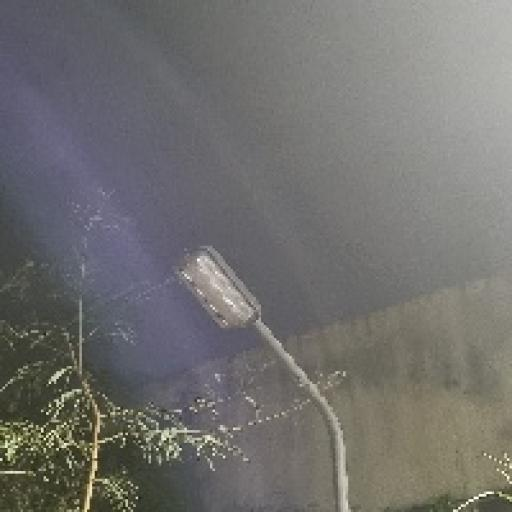Not Working: (162, 238, 276, 340)
